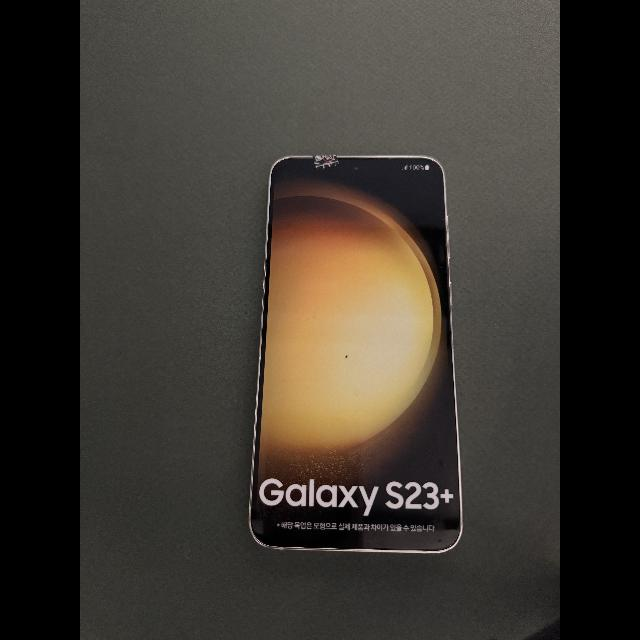lens: (353, 166, 359, 171)
phone: (249, 153, 463, 554)
sticker: (312, 154, 339, 171)
